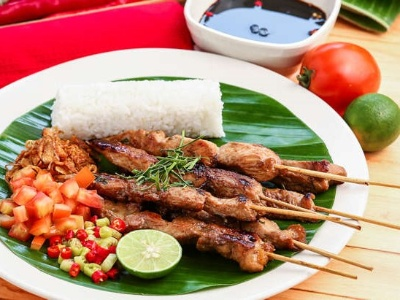sate: (82, 127, 398, 275)
